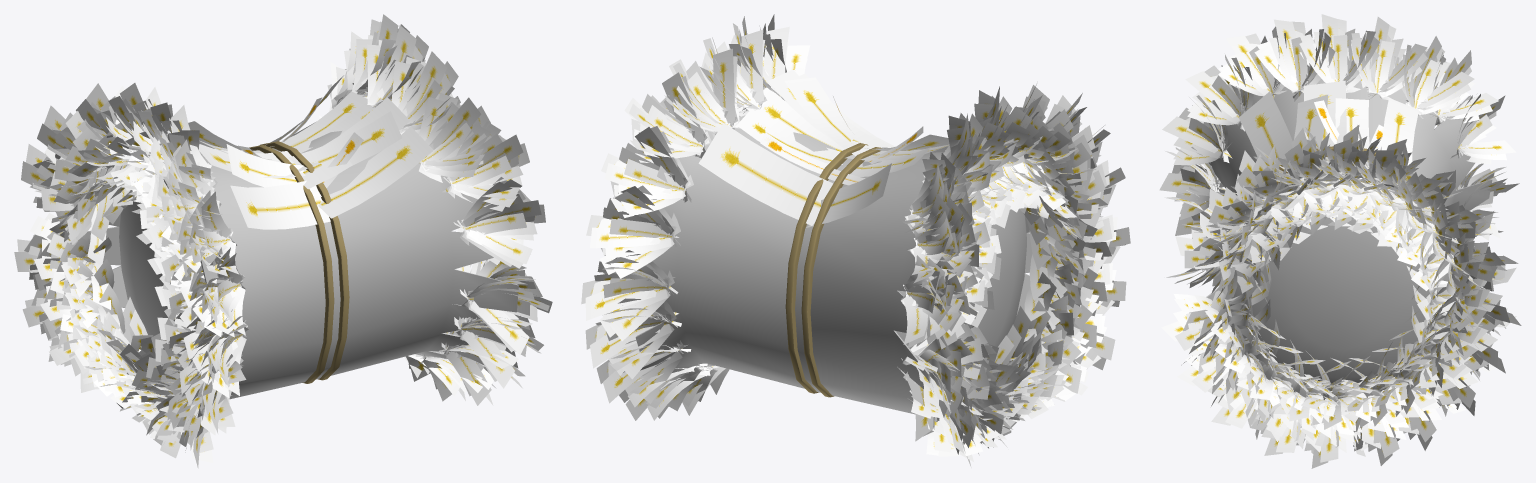
The model's file is Haybale_Sofie.fbx.
3 renders of one model, left to right at view 1: azimuth 30°, elevation 25°; view 2: azimuth 150°, elevation 25°; view 3: azimuth 270°, elevation 25°, orthographic. The views are drawn at different scales.
Parts seen in each view (by area): view 1: group3_HOOI1_Instancer_objects13_pPlaneShape15_HOOI1_Instanc; view 2: group3_HOOI1_Instancer_objects13_pPlaneShape15_HOOI1_Instanc; view 3: group3_HOOI1_Instancer_objects13_pPlaneShape15_HOOI1_Instanc.
Boxes of the visible parts, x1,y1,x2,y2 form: group3_HOOI1_Instancer_objects13_pPlaneShape15_HOOI1_Instanc: (14,14,552,468); group3_HOOI1_Instancer_objects13_pPlaneShape15_HOOI1_Instanc: (581,14,1130,467); group3_HOOI1_Instancer_objects13_pPlaneShape15_HOOI1_Instanc: (1159,14,1521,468).
Size of the model in its own units: 25.35 by 24.68 by 24.78.
